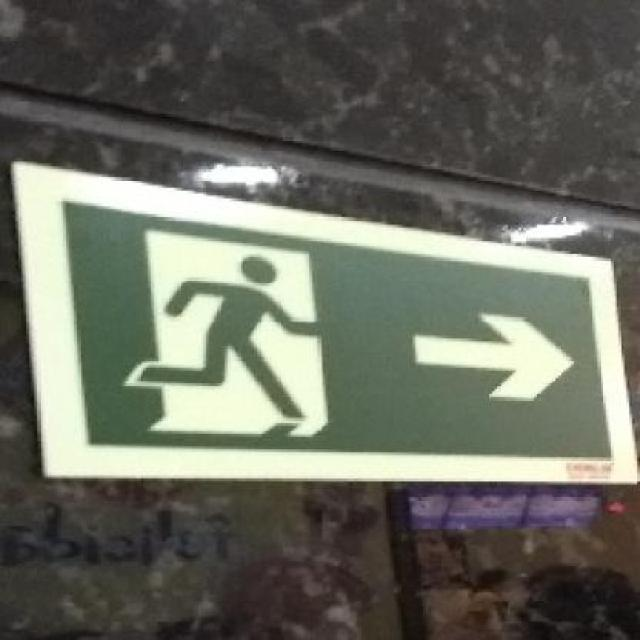emergency_exit: (10, 157, 638, 486)
